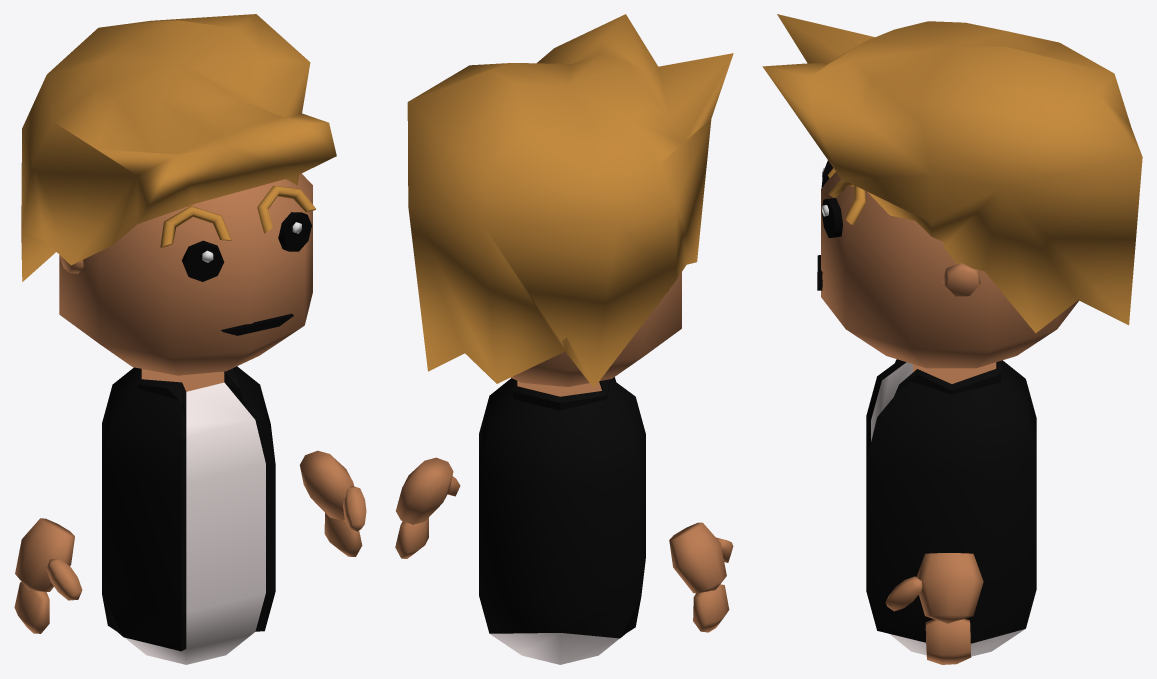
Rendered from hombre_5.fbx.
3 views of the same model, side by side, from view 1: azimuth 30°, elevation 25°; view 2: azimuth 150°, elevation 25°; view 3: azimuth 270°, elevation 25° (orthographic). The views are drawn at different scales.
Visible parts, largest first — view 1: Pelo004, Cabeza004, Camisa001, Cuerpo003, Palma Izquerda009, Palma Izquerda008, Dedos Izquierdos009, Ojo Derecho004, Ceja Derecha004, Dedos Izquierdos008, DedoPulga Izquierdo009, Cuerpo002 (+4 smaller); view 2: Pelo004, Camisa001, Cabeza004, Palma Izquerda009, Cuerpo003, Palma Izquerda008, Dedos Izquierdos009, Dedos Izquierdos008, Cuerpo002; view 3: Pelo004, Camisa001, Cabeza004, Palma Izquerda008, Dedos Izquierdos008, Cuerpo003, Oreja Derecha009, Cuerpo002, DedoPulga Izquierdo008, Ceja Izquierda004, Ojo Izquierdo004.
Boxes of the visible parts, x1,y1,x2,y2 form: Pelo004: [21, 14, 336, 281]; Cabeza004: [59, 173, 312, 375]; Camisa001: [102, 366, 275, 651]; Cuerpo003: [125, 382, 265, 664]; Palma Izquerda009: [15, 518, 74, 591]; Palma Izquerda008: [300, 450, 353, 520]; Dedos Izquierdos009: [14, 582, 49, 633]; Ojo Derecho004: [182, 240, 224, 281]; Ceja Derecha004: [160, 206, 231, 247]; Dedos Izquierdos008: [324, 513, 362, 556]; DedoPulga Izquierdo009: [46, 558, 82, 600]; Cuerpo002: [141, 369, 224, 391]; Pelo004: [407, 14, 733, 387]; Camisa001: [479, 377, 645, 638]; Cabeza004: [511, 272, 681, 386]; Palma Izquerda009: [669, 522, 726, 593]; Cuerpo003: [489, 633, 619, 664]; Palma Izquerda008: [396, 457, 453, 524]; Dedos Izquierdos009: [693, 584, 729, 632]; Dedos Izquierdos008: [395, 517, 428, 558]; Cuerpo002: [517, 381, 601, 396]; Pelo004: [762, 14, 1142, 333]; Camisa001: [866, 359, 1036, 643]; Cabeza004: [821, 172, 1078, 368]; Palma Izquerda008: [916, 553, 983, 623]; Dedos Izquierdos008: [925, 618, 971, 664]; Cuerpo003: [871, 362, 1024, 656]; Oreja Derecha009: [942, 263, 980, 296]; Cuerpo002: [912, 362, 996, 383]; DedoPulga Izquierdo008: [885, 576, 922, 611]; Ceja Izquierda004: [828, 179, 866, 224]; Ojo Izquierdo004: [821, 198, 842, 237].
Bounding box in the file's own units: 1.41 × 2.46 × 1.38.
